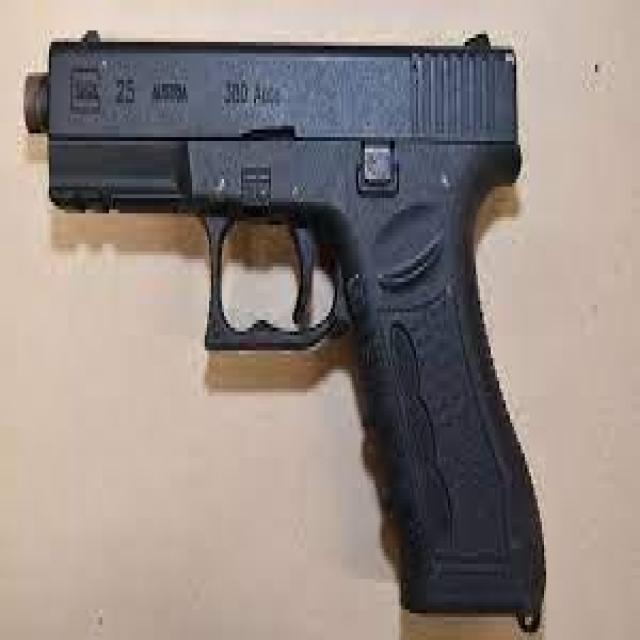gun: (23, 30, 548, 636)
